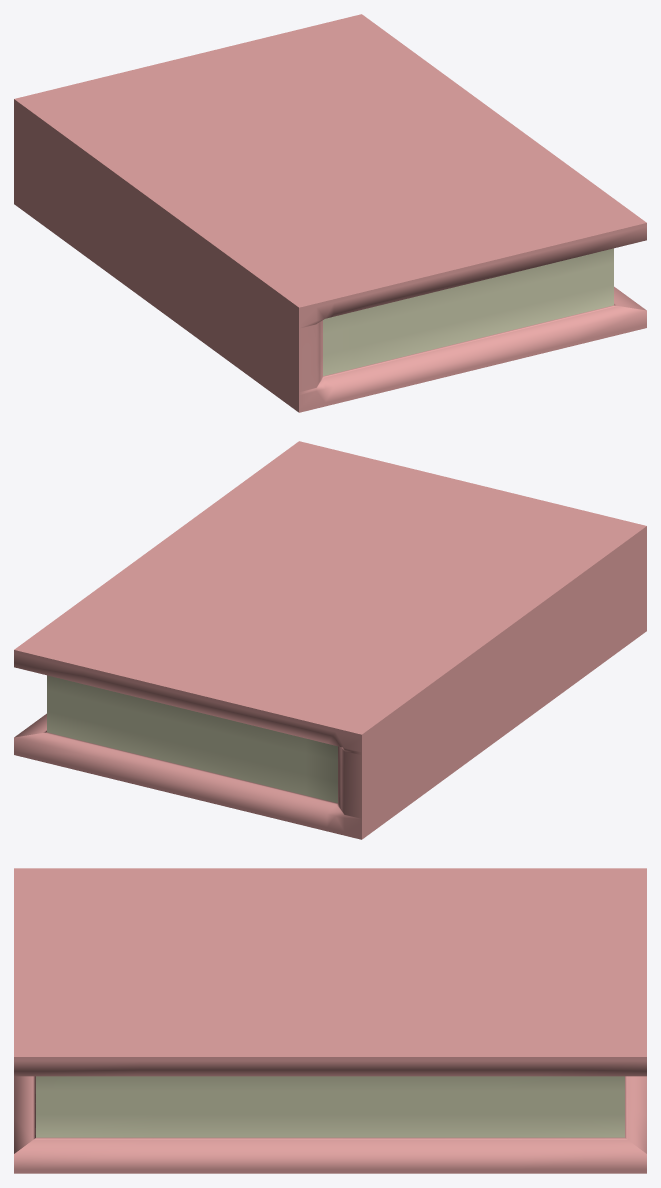
The model's file is LowPolyBook.fbx.
3 renders of one model, top to bottom at view 1: azimuth 30°, elevation 25°; view 2: azimuth 150°, elevation 25°; view 3: azimuth 270°, elevation 25°, orthographic. The views are drawn at different scales.
Visible parts, largest first — view 1: Book; view 2: Book; view 3: Book.
Part boxes in pixels (box(x1,y1,x2,y2)): Book: box(14, 14, 646, 412); Book: box(14, 441, 646, 839); Book: box(14, 868, 646, 1173).
Bounding box in the file's own units: 2.9 × 0.8369 × 4.11.
